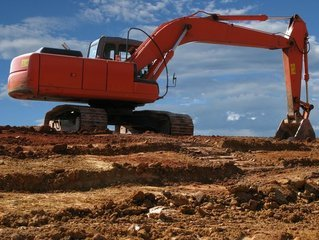excavator: (6, 10, 313, 145)
